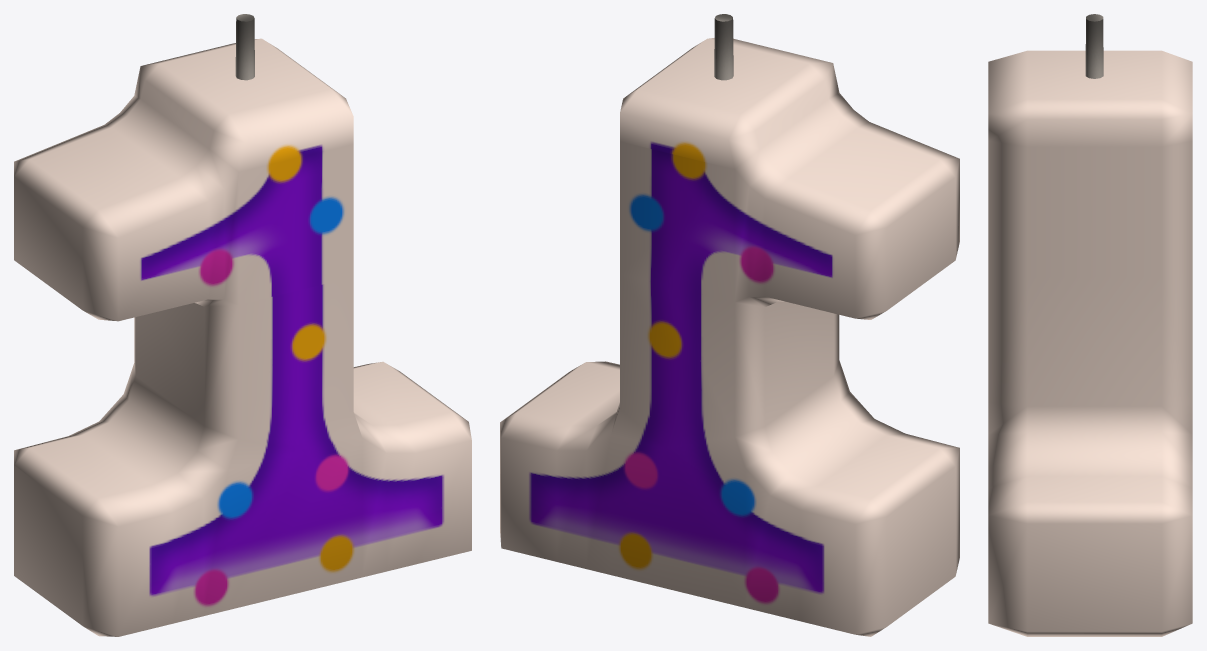
File: Candle_1.fbx
The picture shows the model from 3 angles, left to right: view 1: azimuth 30°, elevation 25°; view 2: azimuth 150°, elevation 25°; view 3: azimuth 270°, elevation 25°; orthographic projection. The views are drawn at different scales.
Visible parts, largest first — view 1: Candle_1; view 2: Candle_1; view 3: Candle_1.
Part boxes in pixels (bbox=[...]): Candle_1: bbox=[14, 14, 471, 636]; Candle_1: bbox=[500, 14, 959, 636]; Candle_1: bbox=[988, 14, 1192, 636].
Bounding box in the file's own units: 22.47 × 30.52 × 10.54.
